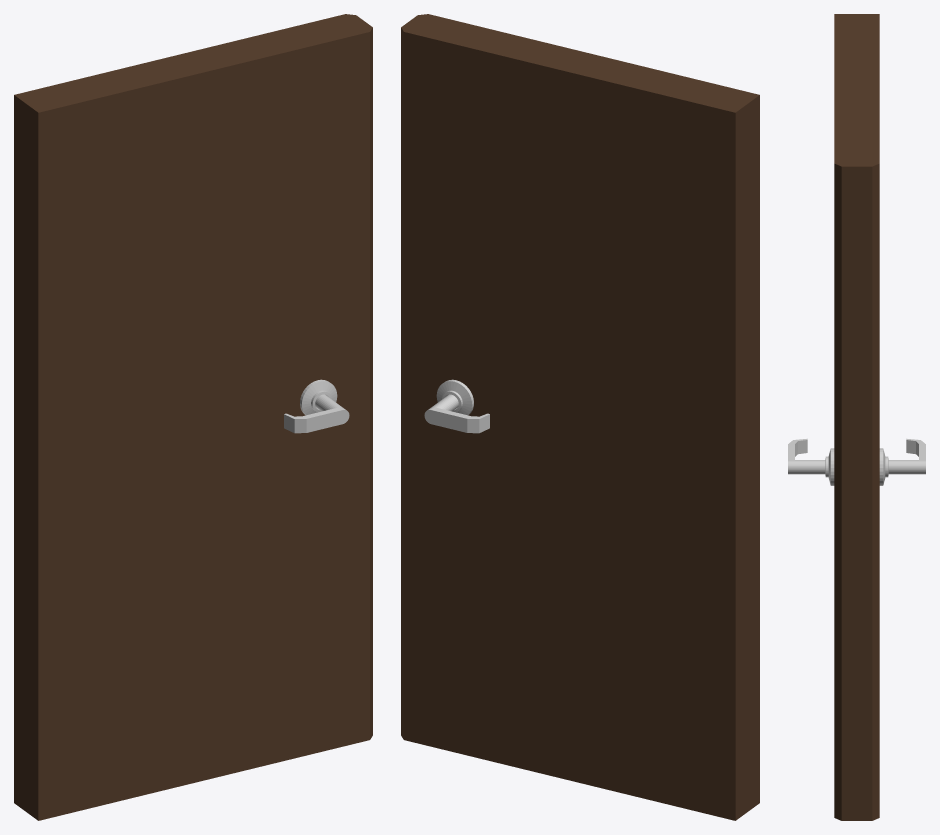
File: OfficeDoor1.fbx
3 views of the same model, side by side, from view 1: azimuth 30°, elevation 25°; view 2: azimuth 150°, elevation 25°; view 3: azimuth 270°, elevation 25° (orthographic). The views are drawn at different scales.
Parts seen in each view (by area): view 1: Door, DoorKnob, DoorKnobPlate; view 2: Door, DoorKnob, DoorKnobPlate; view 3: Door, DoorKnob, DoorKnobPlate.
Boxes of the visible parts, x1=… form: Door: x1=14, y1=14, x2=372, y2=820; DoorKnob: x1=284, y1=394, x2=349, y2=433; DoorKnobPlate: x1=300, y1=379, x2=337, y2=415; Door: x1=401, y1=14, x2=759, y2=820; DoorKnob: x1=424, y1=394, x2=489, y2=433; DoorKnobPlate: x1=436, y1=379, x2=473, y2=415; Door: x1=834, y1=14, x2=879, y2=820; DoorKnob: x1=788, y1=438, x2=925, y2=474; DoorKnobPlate: x1=825, y1=448, x2=888, y2=485.
Bounding box in the file's own units: 200 × 400 × 76.4.
